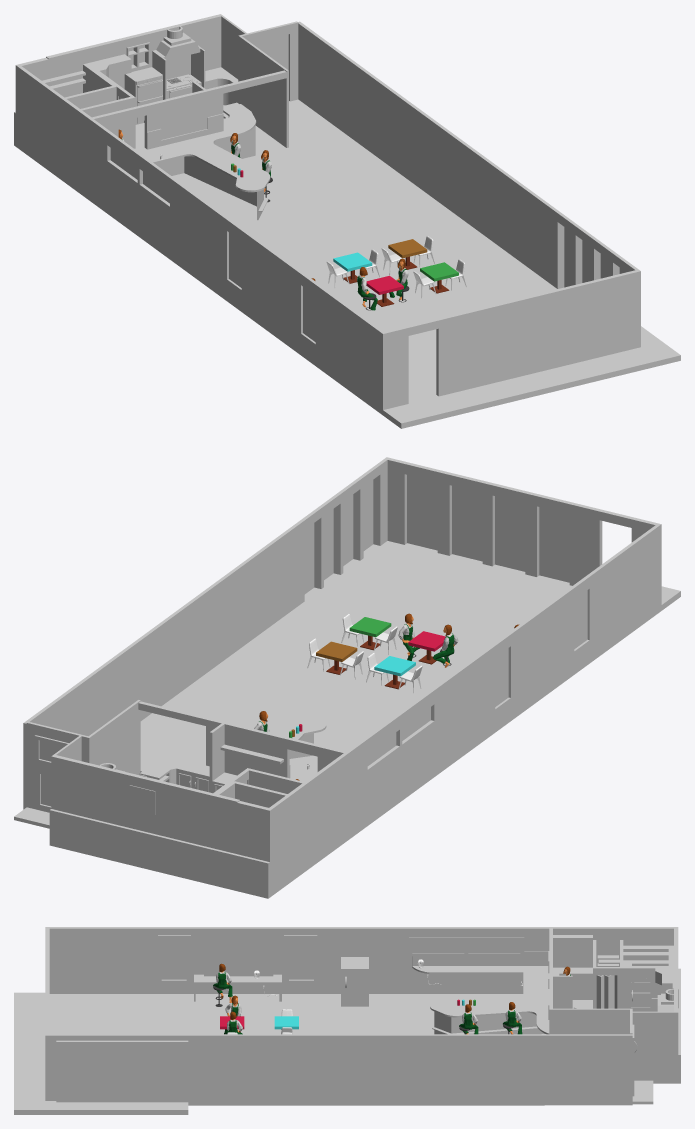
The model's file is env_big.dae.
3 renders of one model, top to bottom at view 1: azimuth 30°, elevation 25°; view 2: azimuth 150°, elevation 25°; view 3: azimuth 270°, elevation 25°, orthographic. The views are drawn at different scales.
Parts seen in each view (by area): view 1: base; view 2: base; view 3: base (×2).
Boxes of the visible parts, left/top/right/bottom form: base: left=14, top=14, right=680, bottom=428; base: left=14, top=457, right=680, bottom=898; base (×2): left=14, top=927, right=680, bottom=1114.
Bounding box in the file's own units: 10.17 × 24.41 × 3.02.
